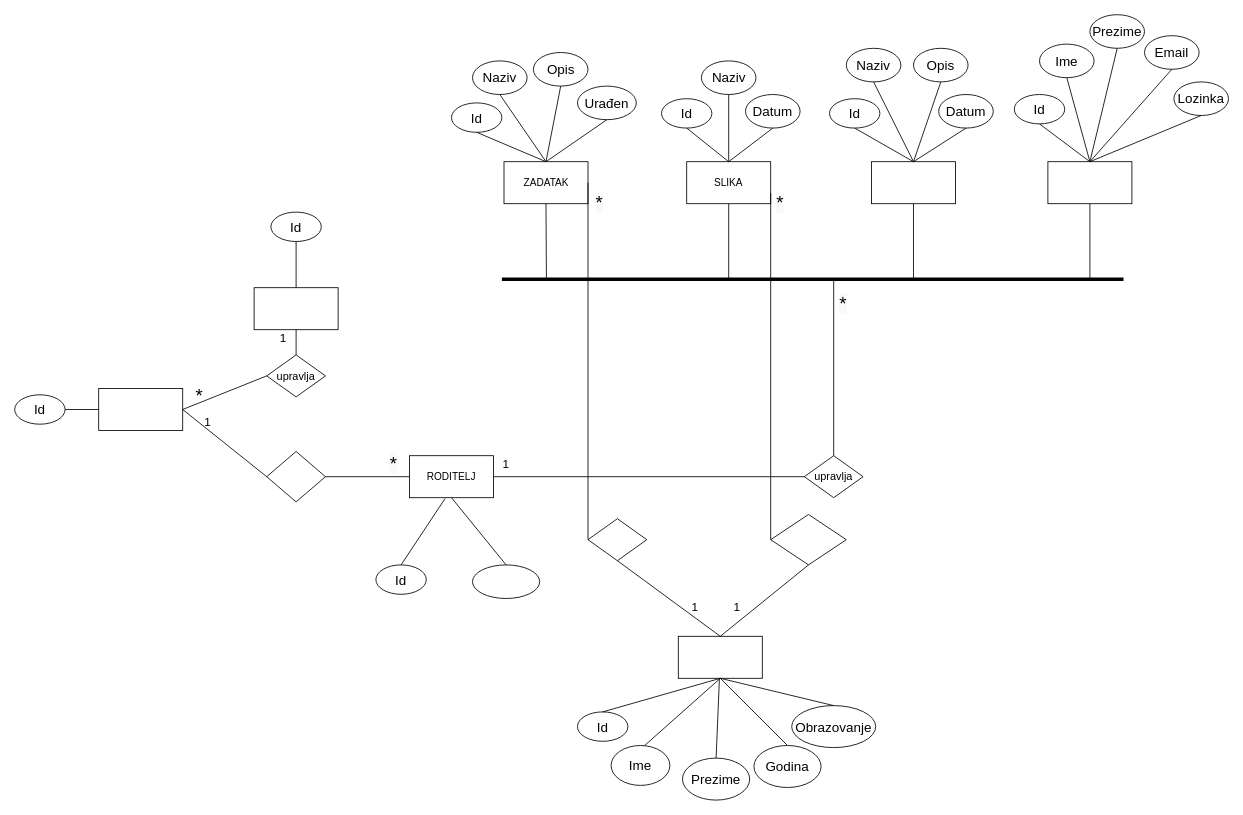
Image size: 1243x815. Some labels were removed from this diagram. The shapes that lost their labels are listed below. From the top down, each one's box as (x1, y1, x2, y2) in pixels, then its label:
(871, 161, 956, 204): DOGAĐAJ
(1047, 161, 1132, 204): ČLAN
(253, 287, 338, 330): ADMIN
(98, 388, 183, 430): OBITELJ
(266, 451, 326, 502): stvara
(587, 518, 647, 561): radi
(770, 514, 846, 565): pregledava
(472, 564, 540, 598): Dodatna_sif
(677, 635, 762, 678): DIJETE
